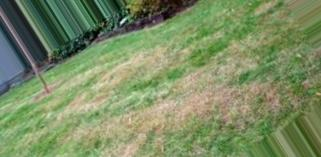patch: (183, 87, 255, 115), (127, 105, 167, 130)
